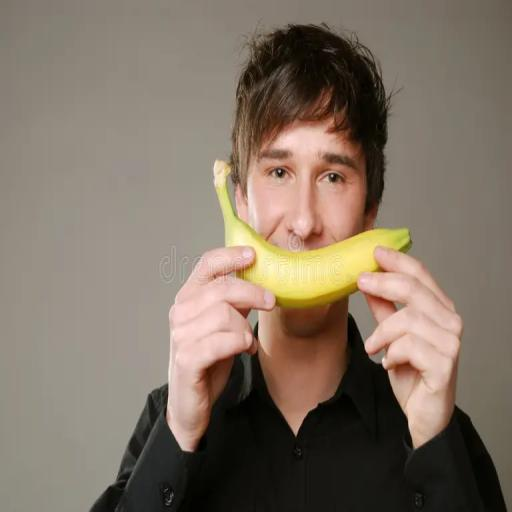banana: (214, 160, 411, 308)
